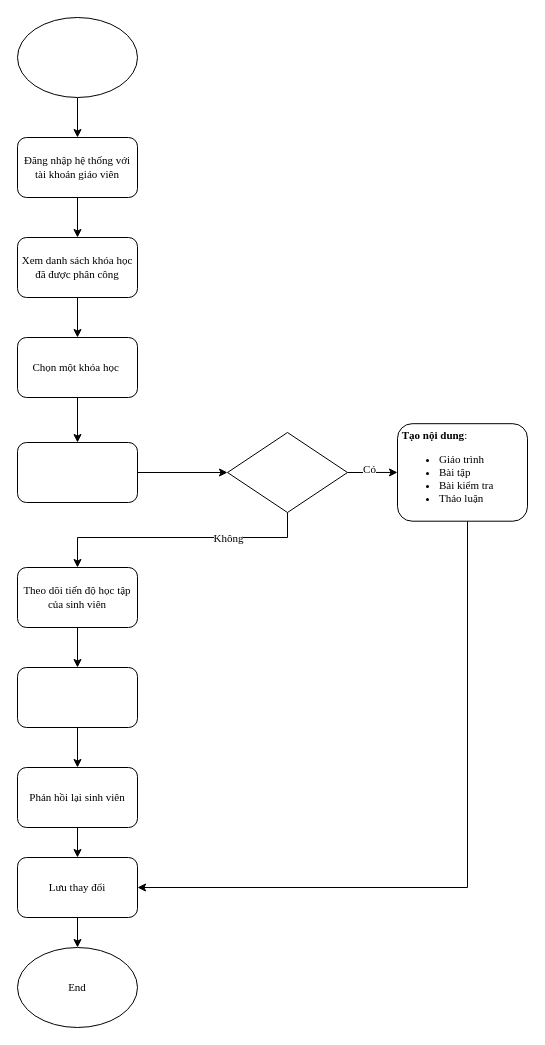
Image size: 545x1045. Some labels were removed from this diagram. Here are the shapes that lost their labels. From the top down, the box of each, then its label:
(16, 16, 138, 98): Start
(16, 442, 138, 502): Trang chủ khóa học
(226, 432, 348, 512): Có muốn tạo nội dung không?
(16, 666, 138, 728): Nhận xét phản hồi/ Đánh giá từ sinh viên
